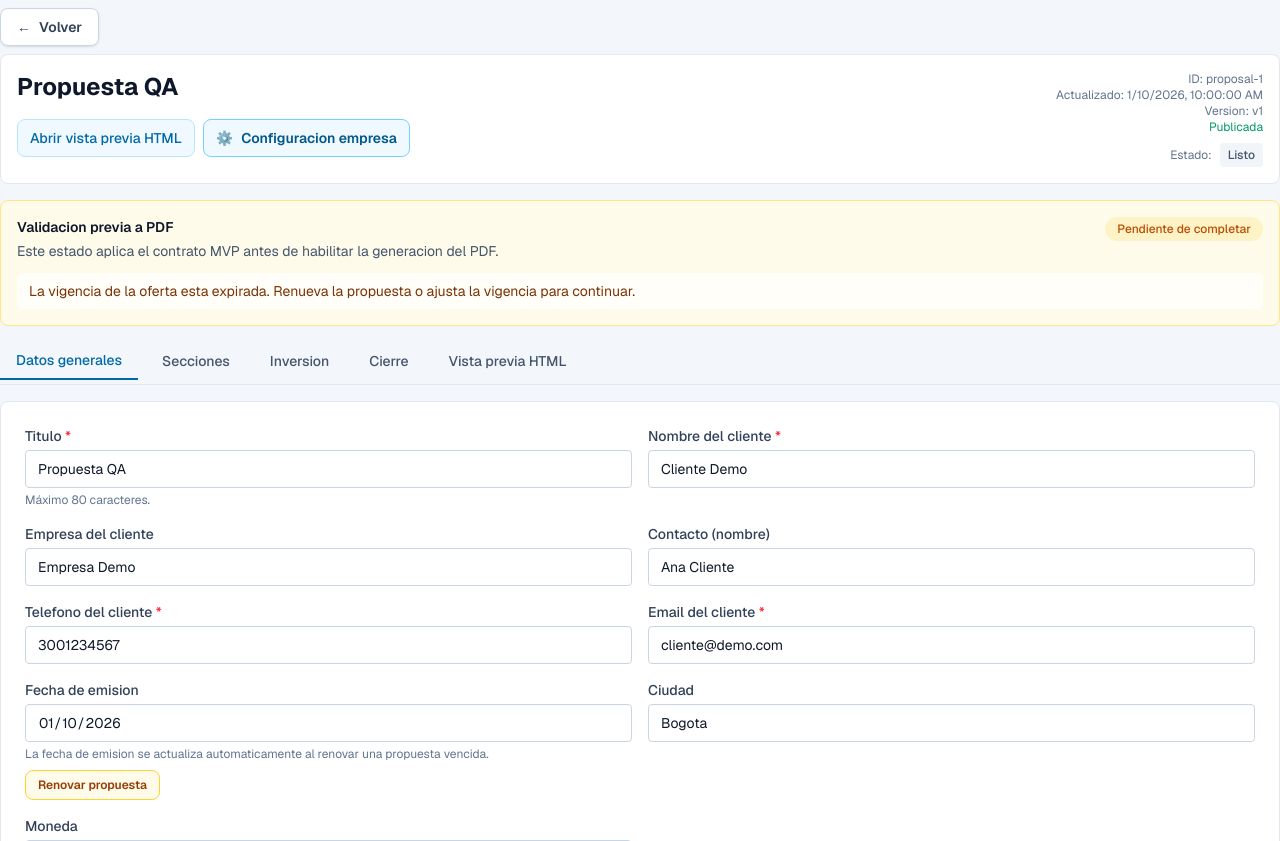
Test: ProposalEditor › loads proposal and navigates tabs
Check: the heading "Propuesta QA" is shown, box [17, 71, 178, 102]
Click the button "Secciones": coordinates (196, 361) [146, 342, 246, 380]
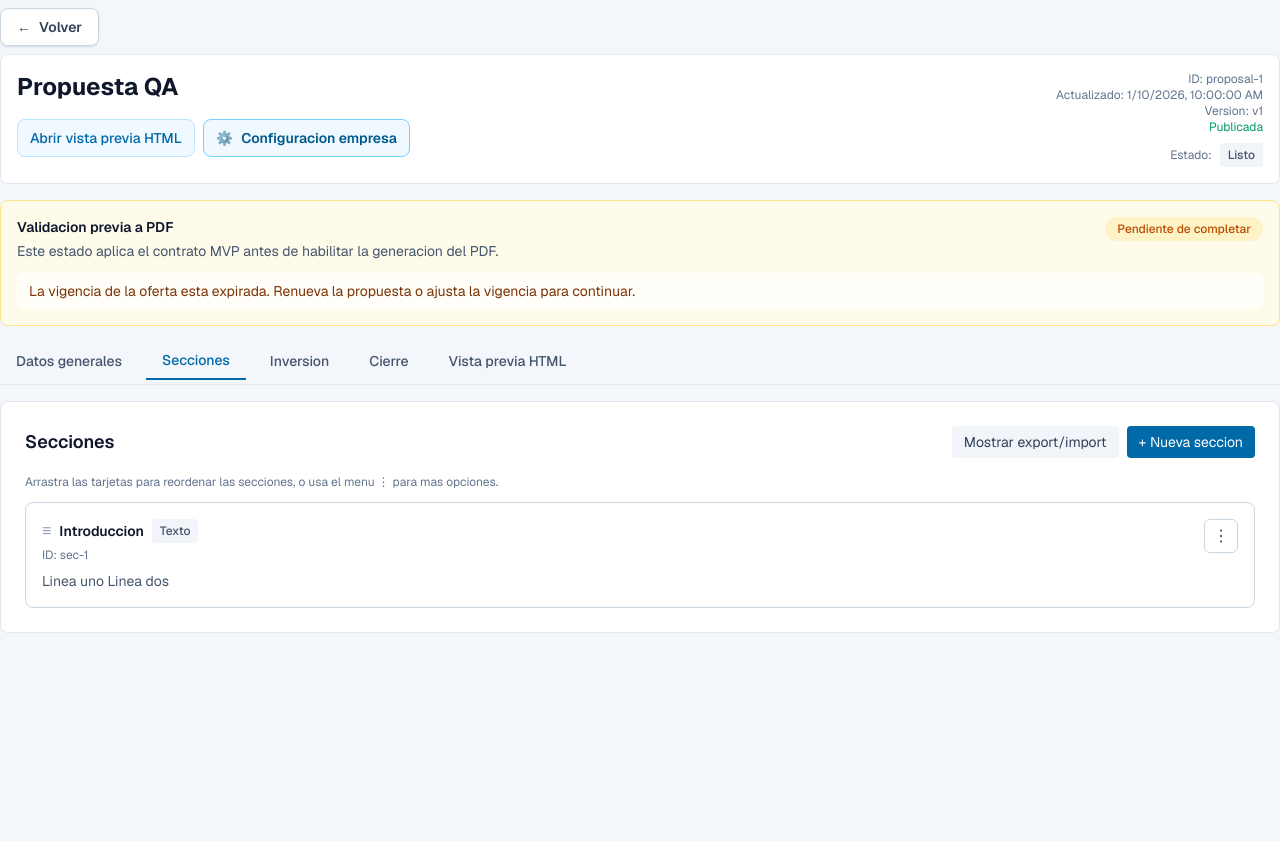
Check: the heading "Secciones" is shown, box [25, 428, 114, 456]
Click the button "Inversion": coordinates (300, 361) [254, 342, 345, 380]
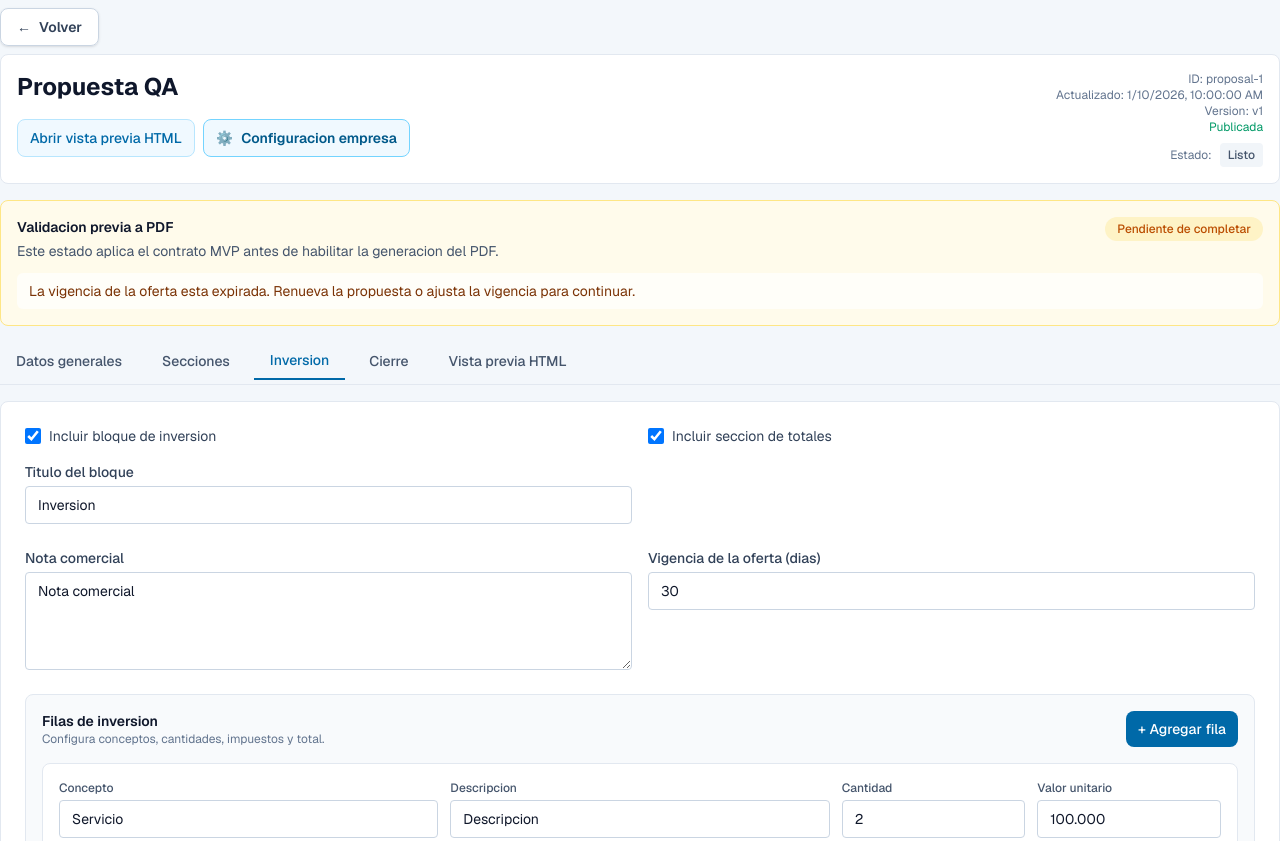
Check: the heading "Filas de inversion" is shown, box [42, 712, 158, 730]
Click the button "Cierre": coordinates (389, 361) [353, 342, 425, 380]
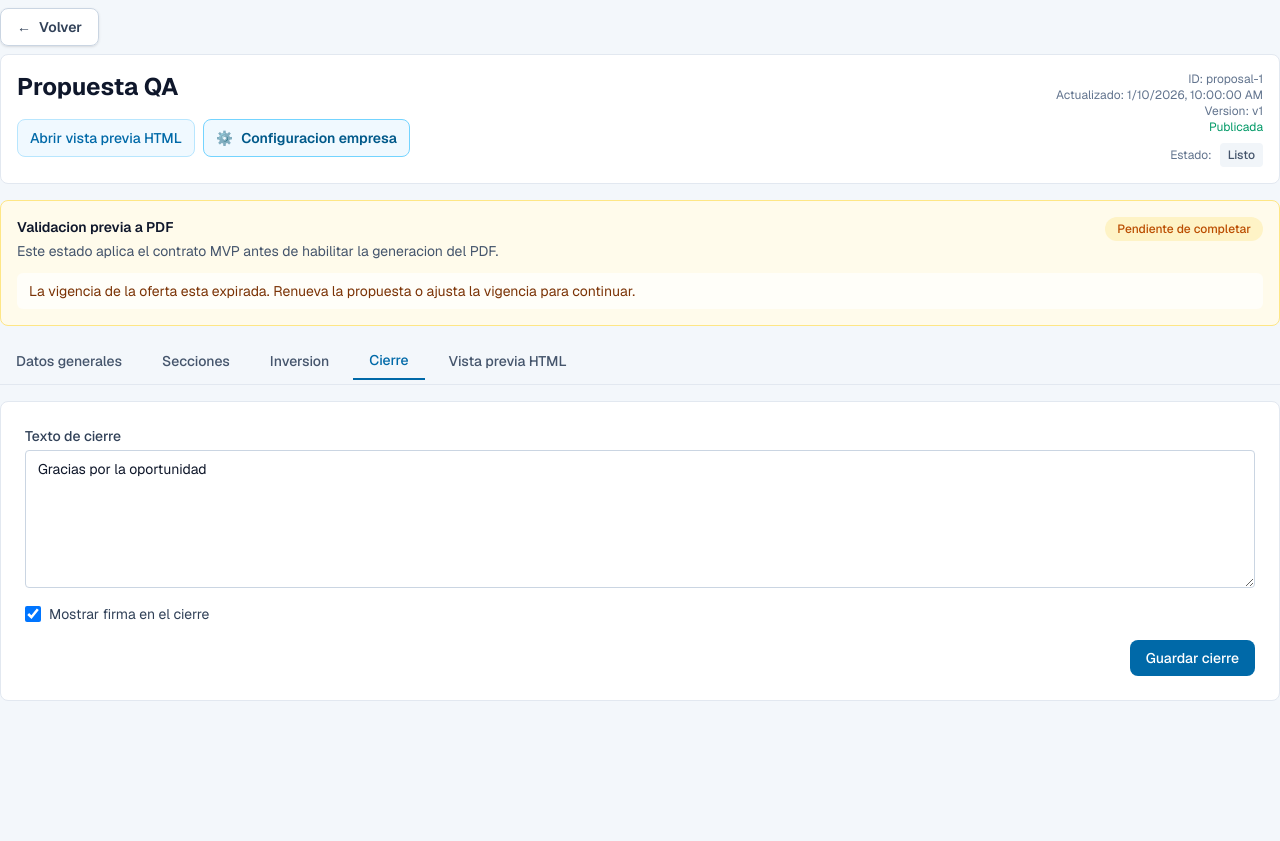
Check: the button "Guardar cierre" is shown, box [1130, 640, 1255, 676]
